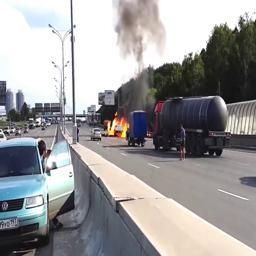fire: (107, 112, 128, 138)
